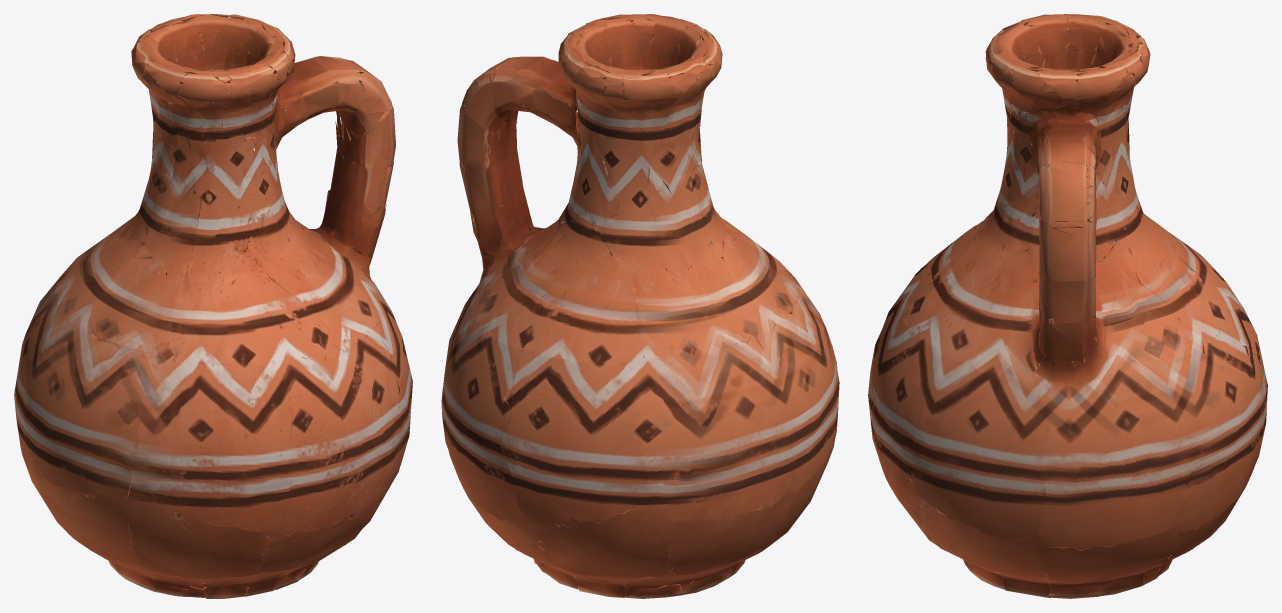
File: ClayJug.fbx
3 renders of one model, left to right at view 1: azimuth 30°, elevation 25°; view 2: azimuth 150°, elevation 25°; view 3: azimuth 270°, elevation 25°, orthographic.
Visible parts, largest first — view 1: ClayJug.033; view 2: ClayJug.033; view 3: ClayJug.033.
Part boxes in pixels (x1,y1,x2,y2): ClayJug.033: (14, 14, 412, 598); ClayJug.033: (441, 14, 839, 598); ClayJug.033: (868, 14, 1267, 598).
Size of the model in its own units: 0.3537 by 0.5 by 0.3527.
Materials: 1 (1 with a texture image).
